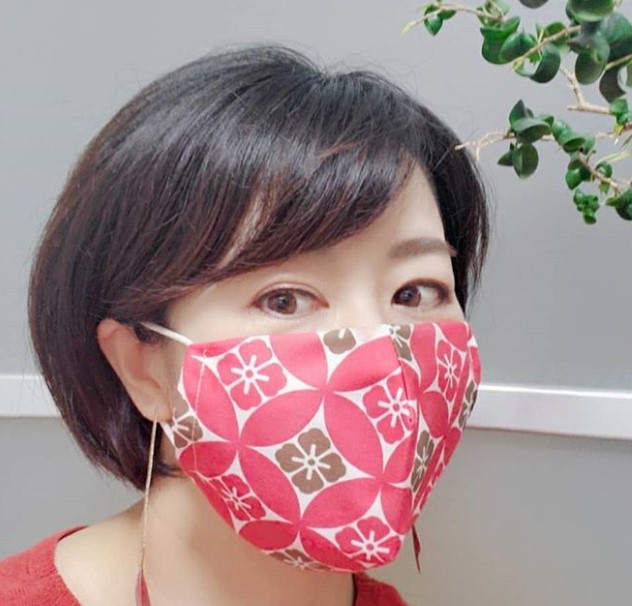face_with_mask: (40, 51, 489, 577)
